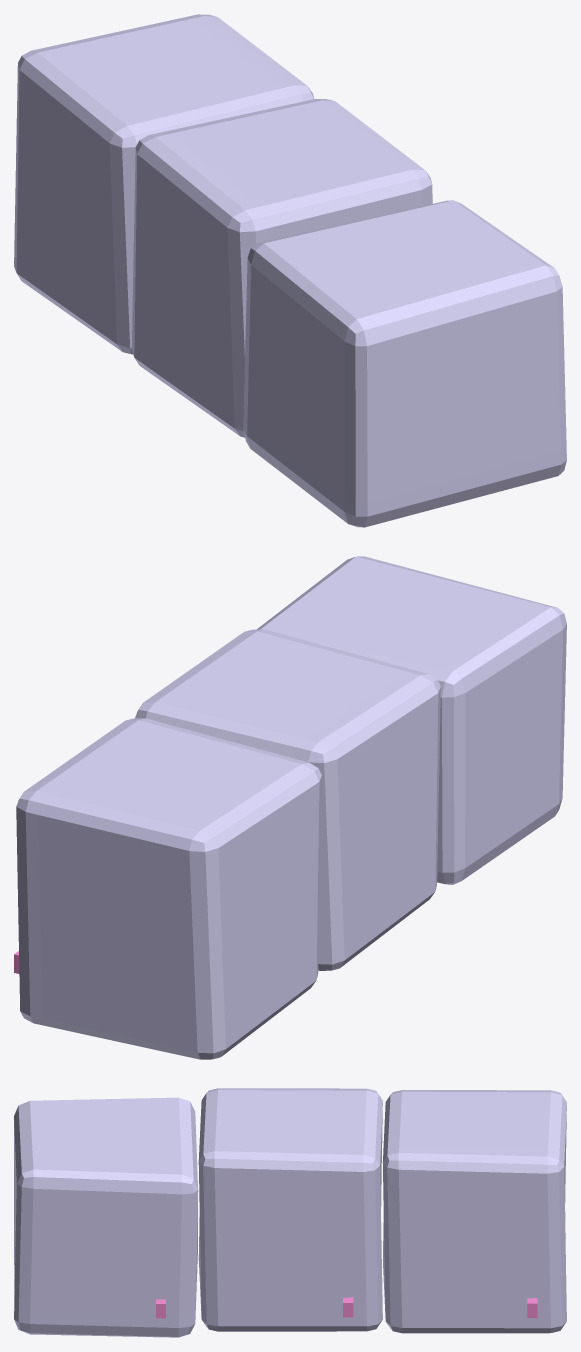
File: Cabinet.gltf
The picture shows the model from 3 angles, top to bottom: view 1: azimuth 30°, elevation 25°; view 2: azimuth 150°, elevation 25°; view 3: azimuth 270°, elevation 25°; orthographic projection. The views are drawn at different scales.
Parts seen in each view (by area): view 1: Cabinet; view 2: Cabinet; view 3: Cabinet.
Boxes of the visible parts, x1,y1,x2,y2 form: Cabinet: (14,14,566,527); Cabinet: (14,556,566,1059); Cabinet: (14,1088,566,1337).
Size of the model in its own units: 6.79 by 6.52 by 18.17.
